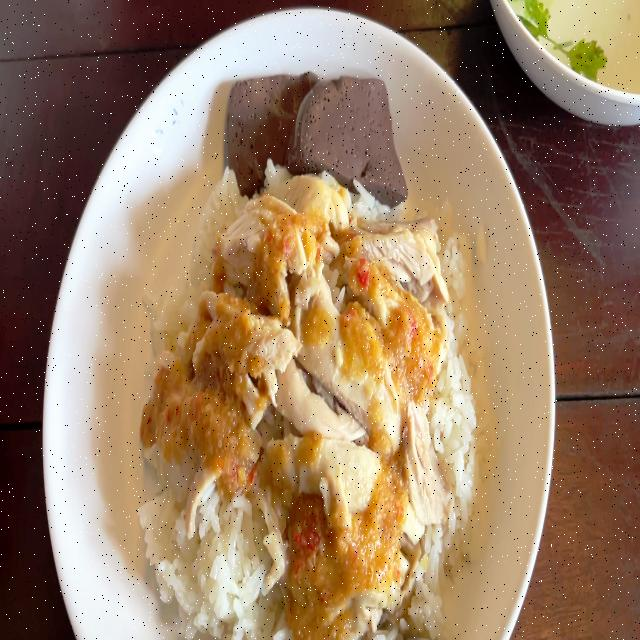boiled_chicken: (192, 201, 405, 558)
boiled_chicken_blood_jelly: (296, 66, 401, 192), (226, 74, 326, 178)
chicken_rice: (128, 68, 487, 636)
